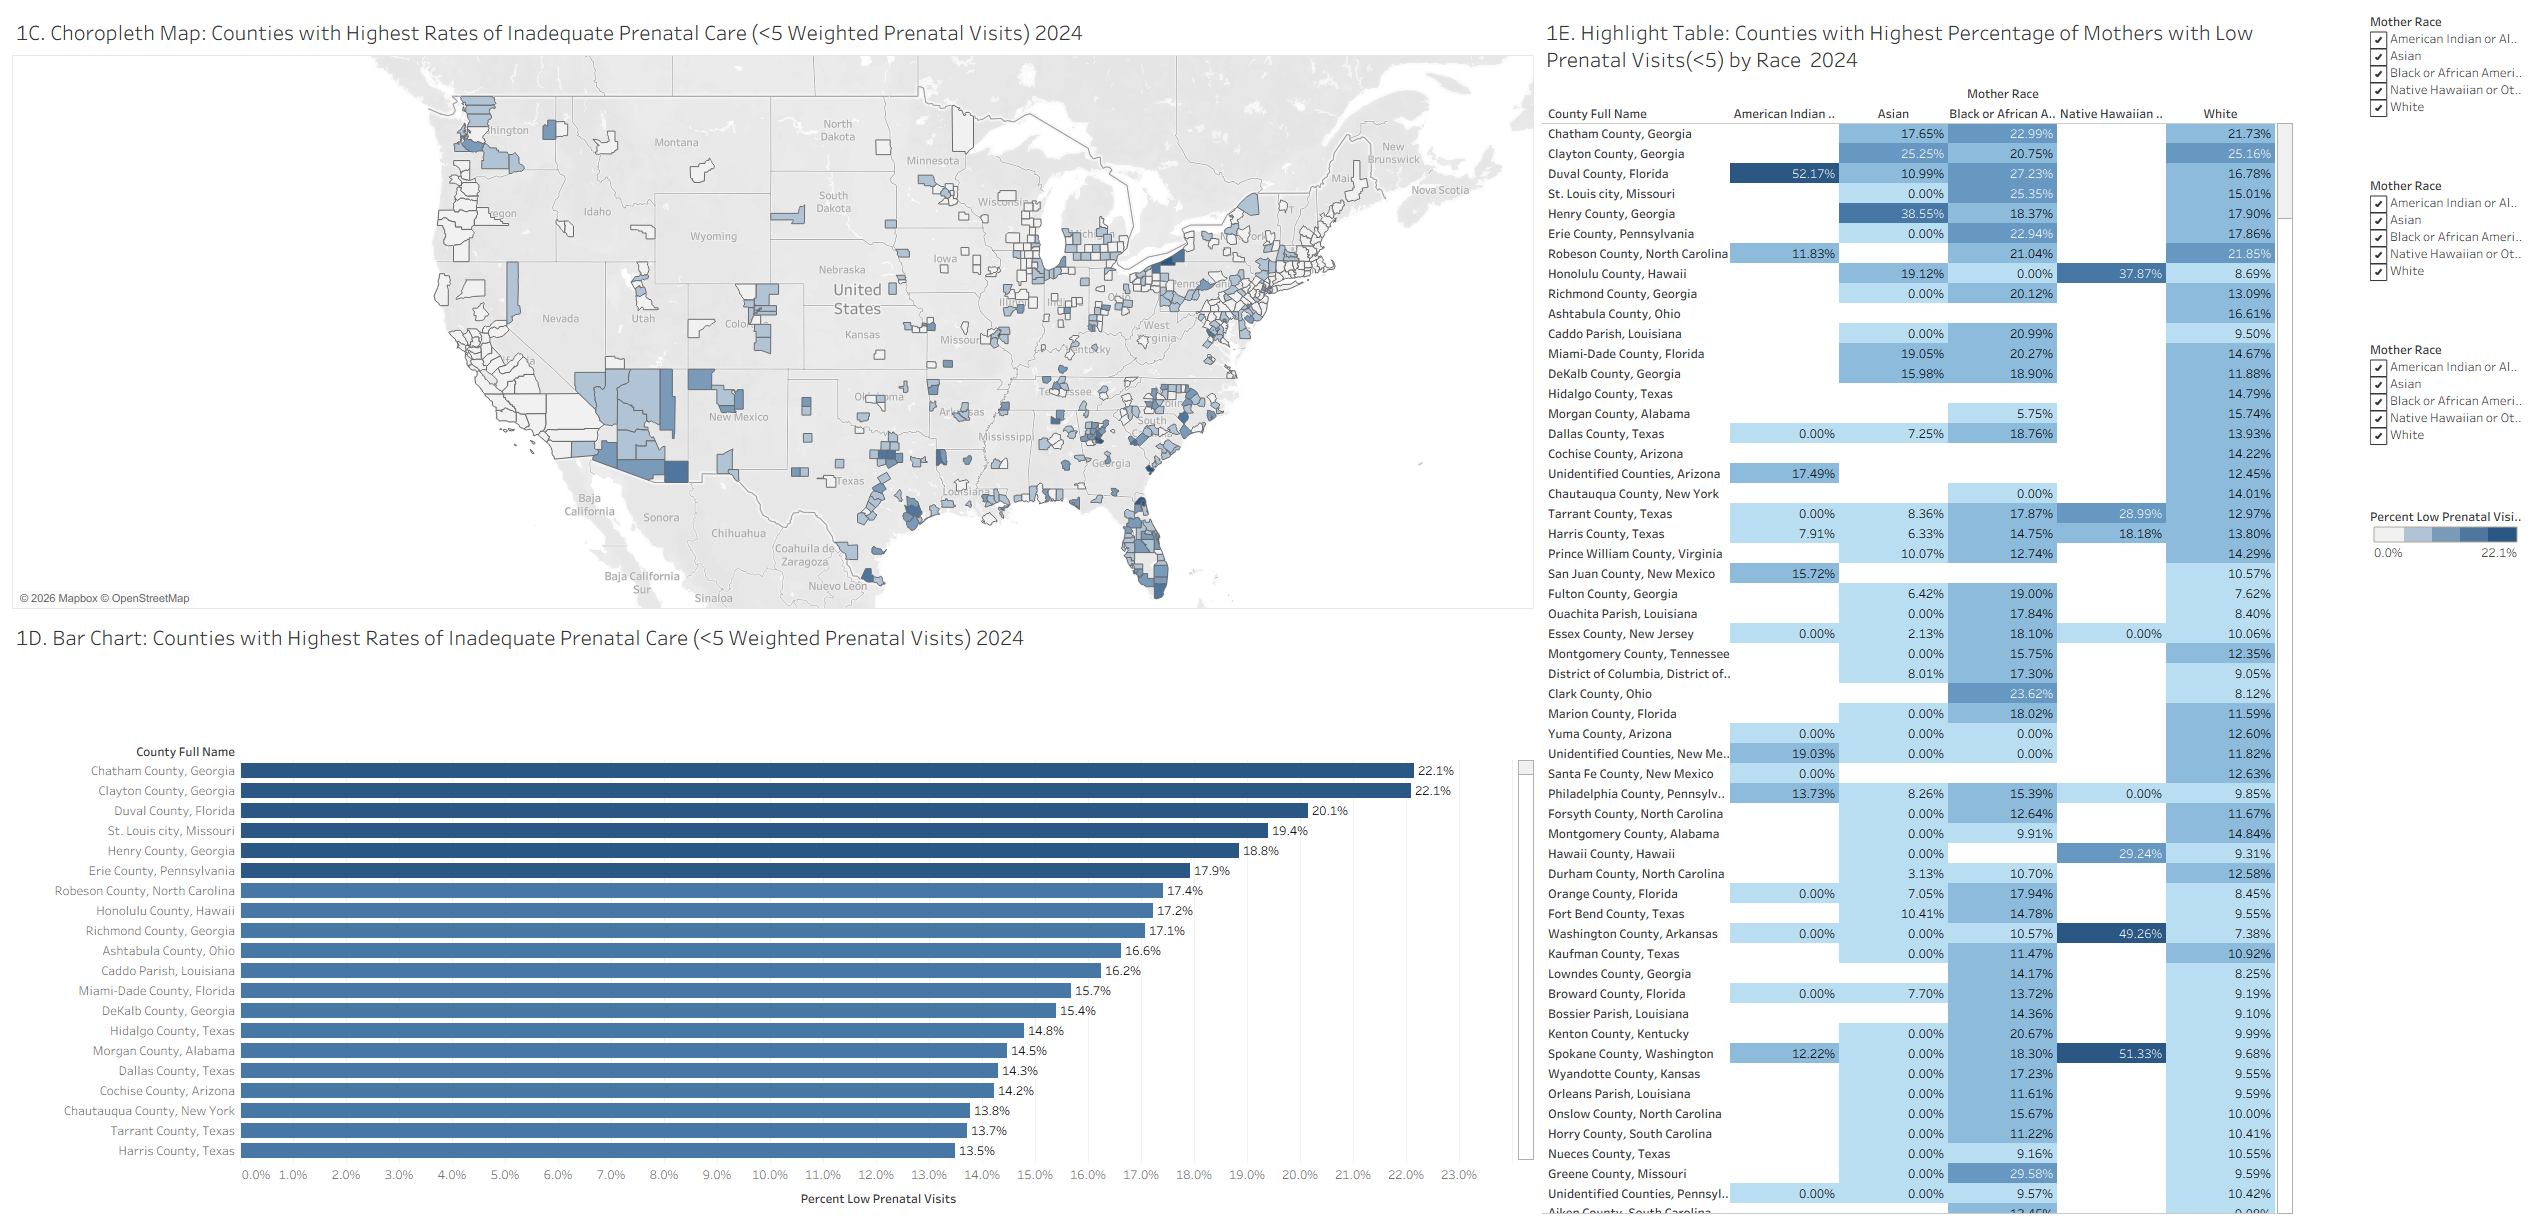

The page's visual inventory and layout, read from the dashboard file:
{"tool":"tableau","page":{"name":"Dashboard C","canvas":[1000,1000],"units":"permille","ordinal":2},"visuals":[{"type":"worksheet","title":"1C. Choropleth Map: Counties with Highest Rates of Inadequate Prenatal Care (<5 Weighted Prenatal Visits)","mark":"Circle","box":[3.2,6.4,603.8,493.6]},{"type":"worksheet","title":"1E. Highlight Table: Counties with Highest Percentage of Mothers with Low Prenatal Visits(<5) by Race ","mark":"Square","rows":["County_Full_Name"],"cols":["Mother_Race"],"box":[606.9,6.4,326.8,987.1]},{"type":"filter","title":"1D. Bar Chart: Counties with Highest Rates of Inadequate Prenatal Care (<5 Weighted Prenatal Visits)","param":"[federated.0kz7ppy1cwwv6d195y19z09n9wko].[none:Mother_Race:nk]","box":[933.7,6.4,63.1,131.8]},{"type":"filter","title":"1E. Highlight Table: Counties with Highest Percentage of Mothers with Low Prenatal Visits(<5) by Race ","param":"[federated.0kz7ppy1cwwv6d195y19z09n9wko].[none:Mother_Race:nk]","box":[933.7,138.3,63.1,131.8]},{"type":"filter","title":"1C. Choropleth Map: Counties with Highest Rates of Inadequate Prenatal Care (<5 Weighted Prenatal Visits)","param":"[federated.0kz7ppy1cwwv6d195y19z09n9wko].[none:Mother_Race:nk]","box":[933.7,270.1,63.1,131.8]},{"type":"legend","title":"1C. Choropleth Map: Counties with Highest Rates of Inadequate Prenatal Care (<5 Weighted Prenatal Visits)","param":"[federated.0kz7ppy1cwwv6d195y19z09n9wko].[usr:Calculation_-7960675279982387188:q","box":[933.7,401.9,63.1,52.2]},{"type":"worksheet","title":"1D. Bar Chart: Counties with Highest Rates of Inadequate Prenatal Care (<5 Weighted Prenatal Visits)","mark":"Automatic","rows":["County_Full_Name"],"cols":["Calculation_-7960675279982387188"],"box":[3.2,500,603.8,493.6]}]}

Visuals, with their boxes on the dashboard's canvas, which has no fixed pixel size, in thousandths of its width and height (x1, y1, x2, y2). These are canvas units, not pixel positions in the 2534x1226 screenshot, which may show the page scaled, cropped or inside an application window:
"1C. Choropleth Map: Counties with Highest Rates of Inadequate Prenatal Care (<5 Weighted Prenatal Visits)" worksheet (Circle marks): box=[3, 6, 607, 500]
"1E. Highlight Table: Counties with Highest Percentage of Mothers with Low Prenatal Visits(<5) by Race " worksheet (Square marks): box=[607, 6, 934, 994]
"1D. Bar Chart: Counties with Highest Rates of Inadequate Prenatal Care (<5 Weighted Prenatal Visits)" filter: box=[934, 6, 997, 138]
"1E. Highlight Table: Counties with Highest Percentage of Mothers with Low Prenatal Visits(<5) by Race " filter: box=[934, 138, 997, 270]
"1C. Choropleth Map: Counties with Highest Rates of Inadequate Prenatal Care (<5 Weighted Prenatal Visits)" filter: box=[934, 270, 997, 402]
"1C. Choropleth Map: Counties with Highest Rates of Inadequate Prenatal Care (<5 Weighted Prenatal Visits)" legend: box=[934, 402, 997, 454]
"1D. Bar Chart: Counties with Highest Rates of Inadequate Prenatal Care (<5 Weighted Prenatal Visits)" worksheet: box=[3, 500, 607, 994]
